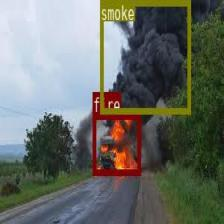fire: (92, 112, 140, 174)
smoke: (99, 0, 190, 113)
